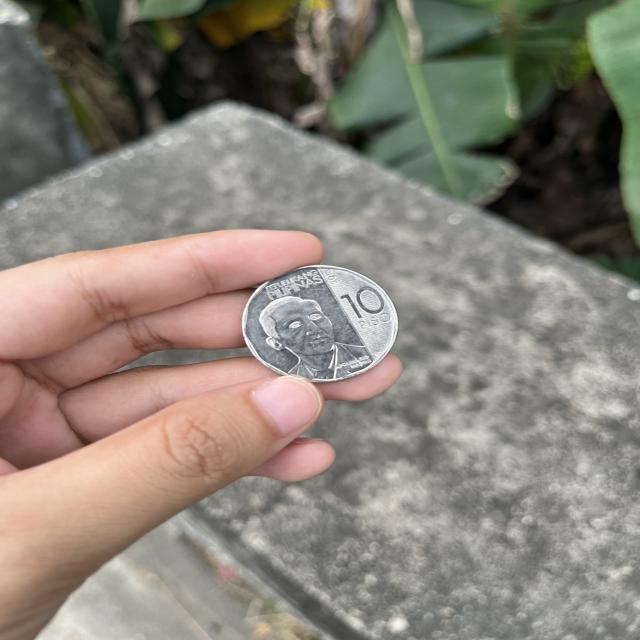10_New_Front: (335, 284, 395, 332)
